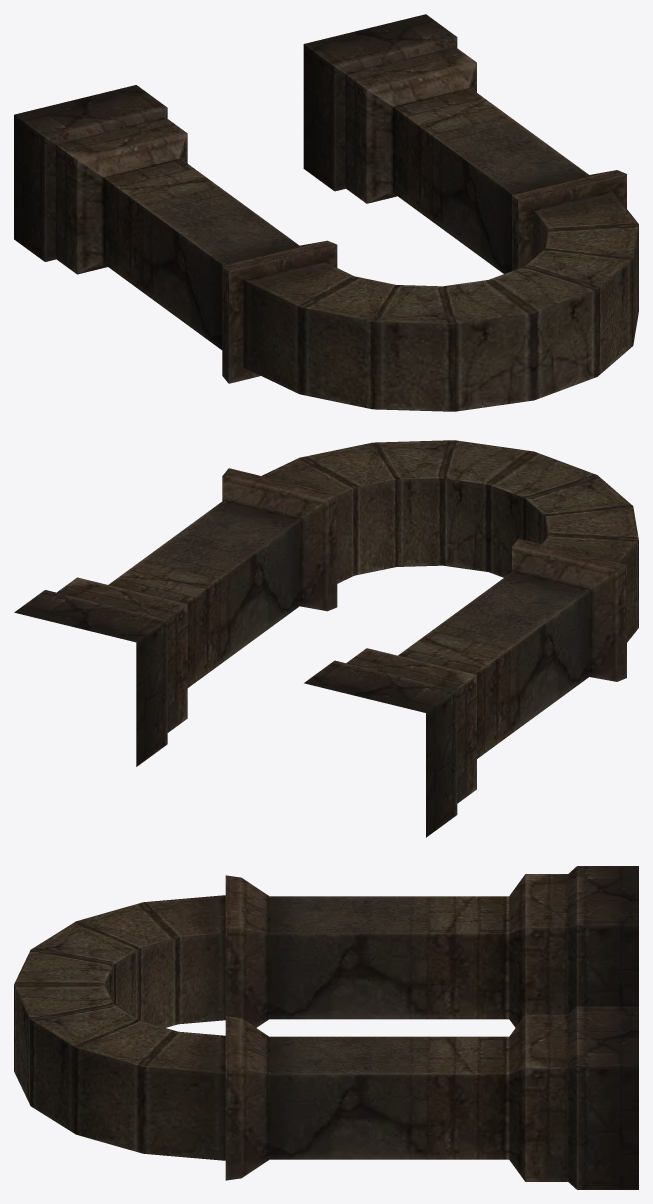
3 views of the same model, one above another, from view 1: azimuth 30°, elevation 25°; view 2: azimuth 150°, elevation 25°; view 3: azimuth 270°, elevation 25° (orthographic).
Visible parts, largest first — view 1: model_Object09; view 2: model_Object09; view 3: model_Object09.
Part boxes in pixels (x1,y1,x2,y2): model_Object09: (14, 14, 638, 411); model_Object09: (14, 440, 638, 837); model_Object09: (14, 866, 638, 1189).
Size of the model in its own units: 1.98 by 0.572 by 2.61.
Materials: 1 (1 with a texture image).
